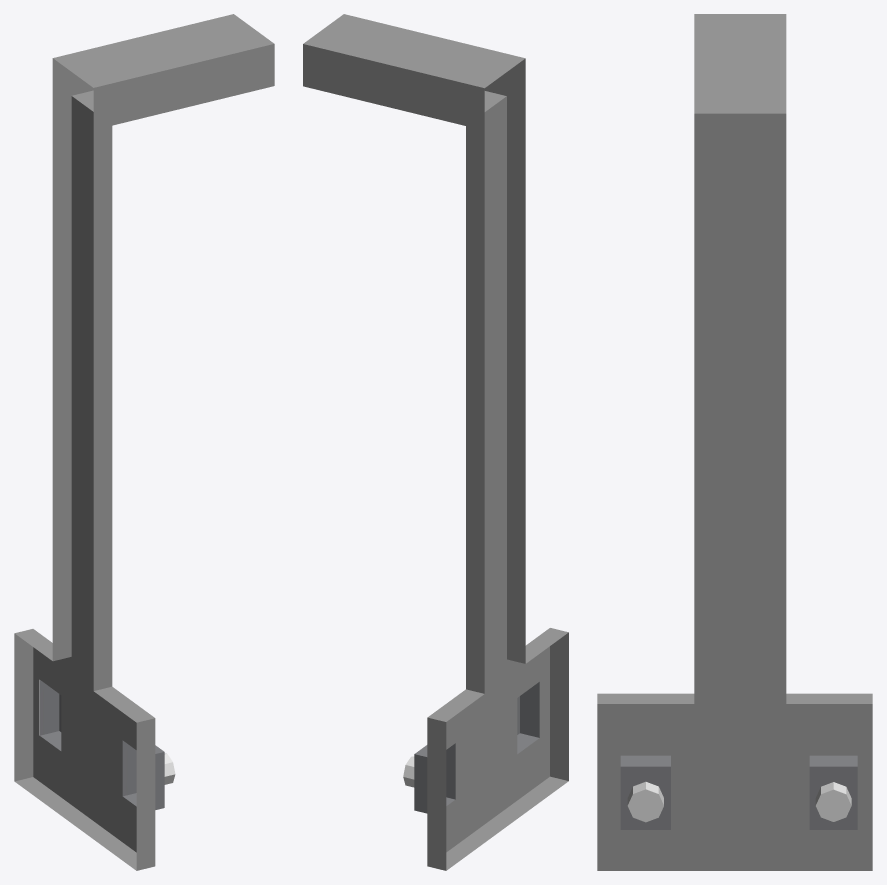
Rendered from Shower.fbx.
3 renders of one model, left to right at view 1: azimuth 30°, elevation 25°; view 2: azimuth 150°, elevation 25°; view 3: azimuth 270°, elevation 25°, orthographic. The views are drawn at different scales.
Visible parts, largest first — view 1: Shower; view 2: Shower; view 3: Shower.
Part boxes in pixels (x1=…): Shower: x1=14, y1=14, x2=274, y2=870; Shower: x1=303, y1=14, x2=568, y2=870; Shower: x1=597, y1=14, x2=872, y2=870.
Bounding box in the file's own units: 269 × 1066 × 314.
